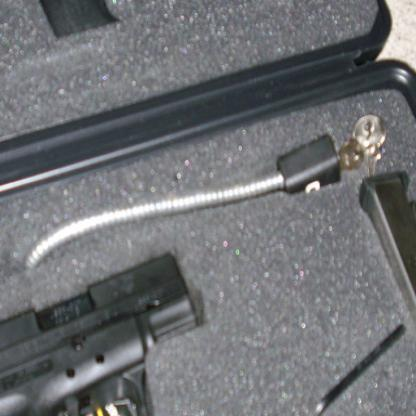gun: (0, 252, 198, 415)
